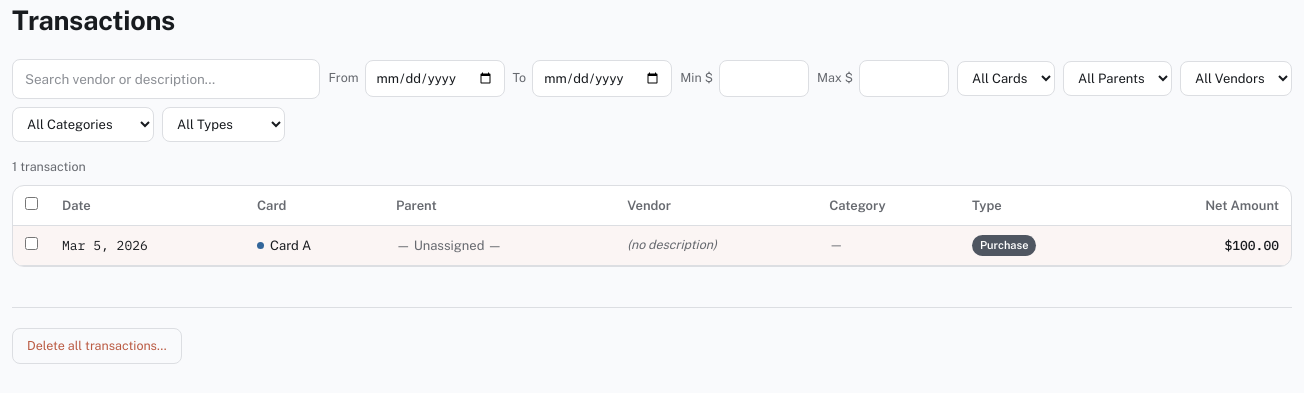
Test: Transactions bulk-selection › clears the selection when a filter changes, instead of letting it silently refer to now-hidden rows
rowCheckboxes[0] is the "select all visible" header checkbox.
Click the checkbox named "Select transaction Mar 5, 2026 COSTCO WHOLESALE #123 $100.00" at [32, 243], box [25, 236, 38, 250]
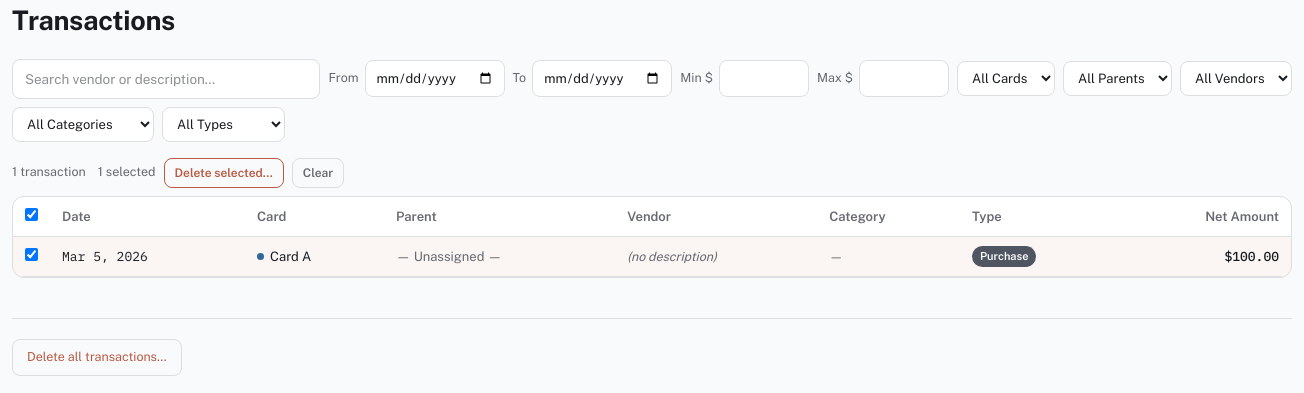
Now the text "1 selected" is shown, box [98, 163, 156, 182]
Select "Card B" in the 1st dropdown showing "All Cards" at [1006, 79], box [957, 61, 1055, 96]
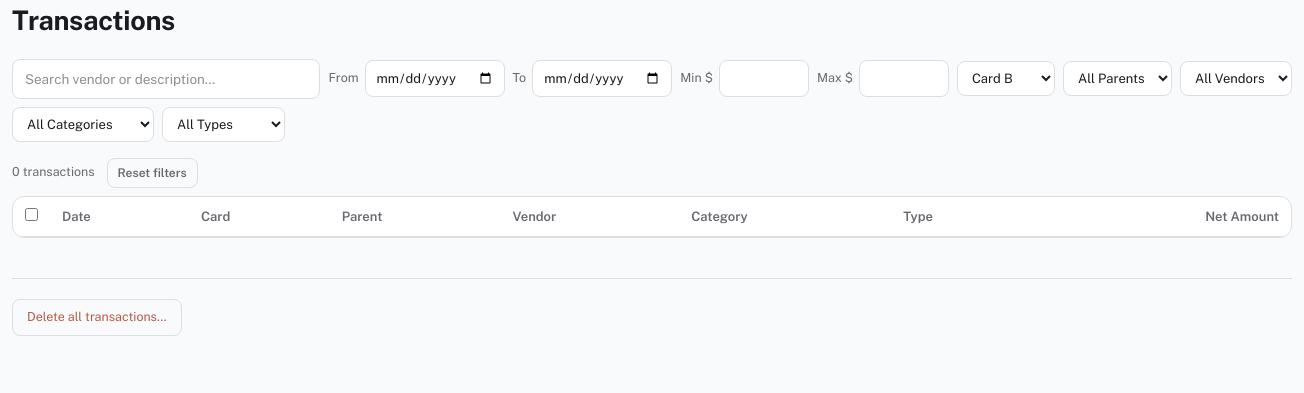
Now the text "1 selected" is gone
